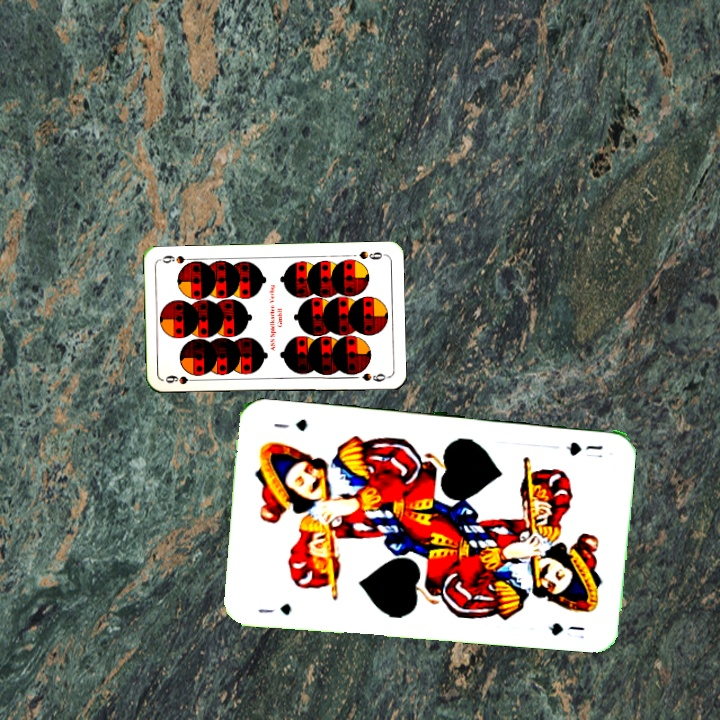GU: (562, 438, 605, 457), (253, 599, 294, 618)
S9: (161, 371, 201, 387), (355, 247, 387, 262)
